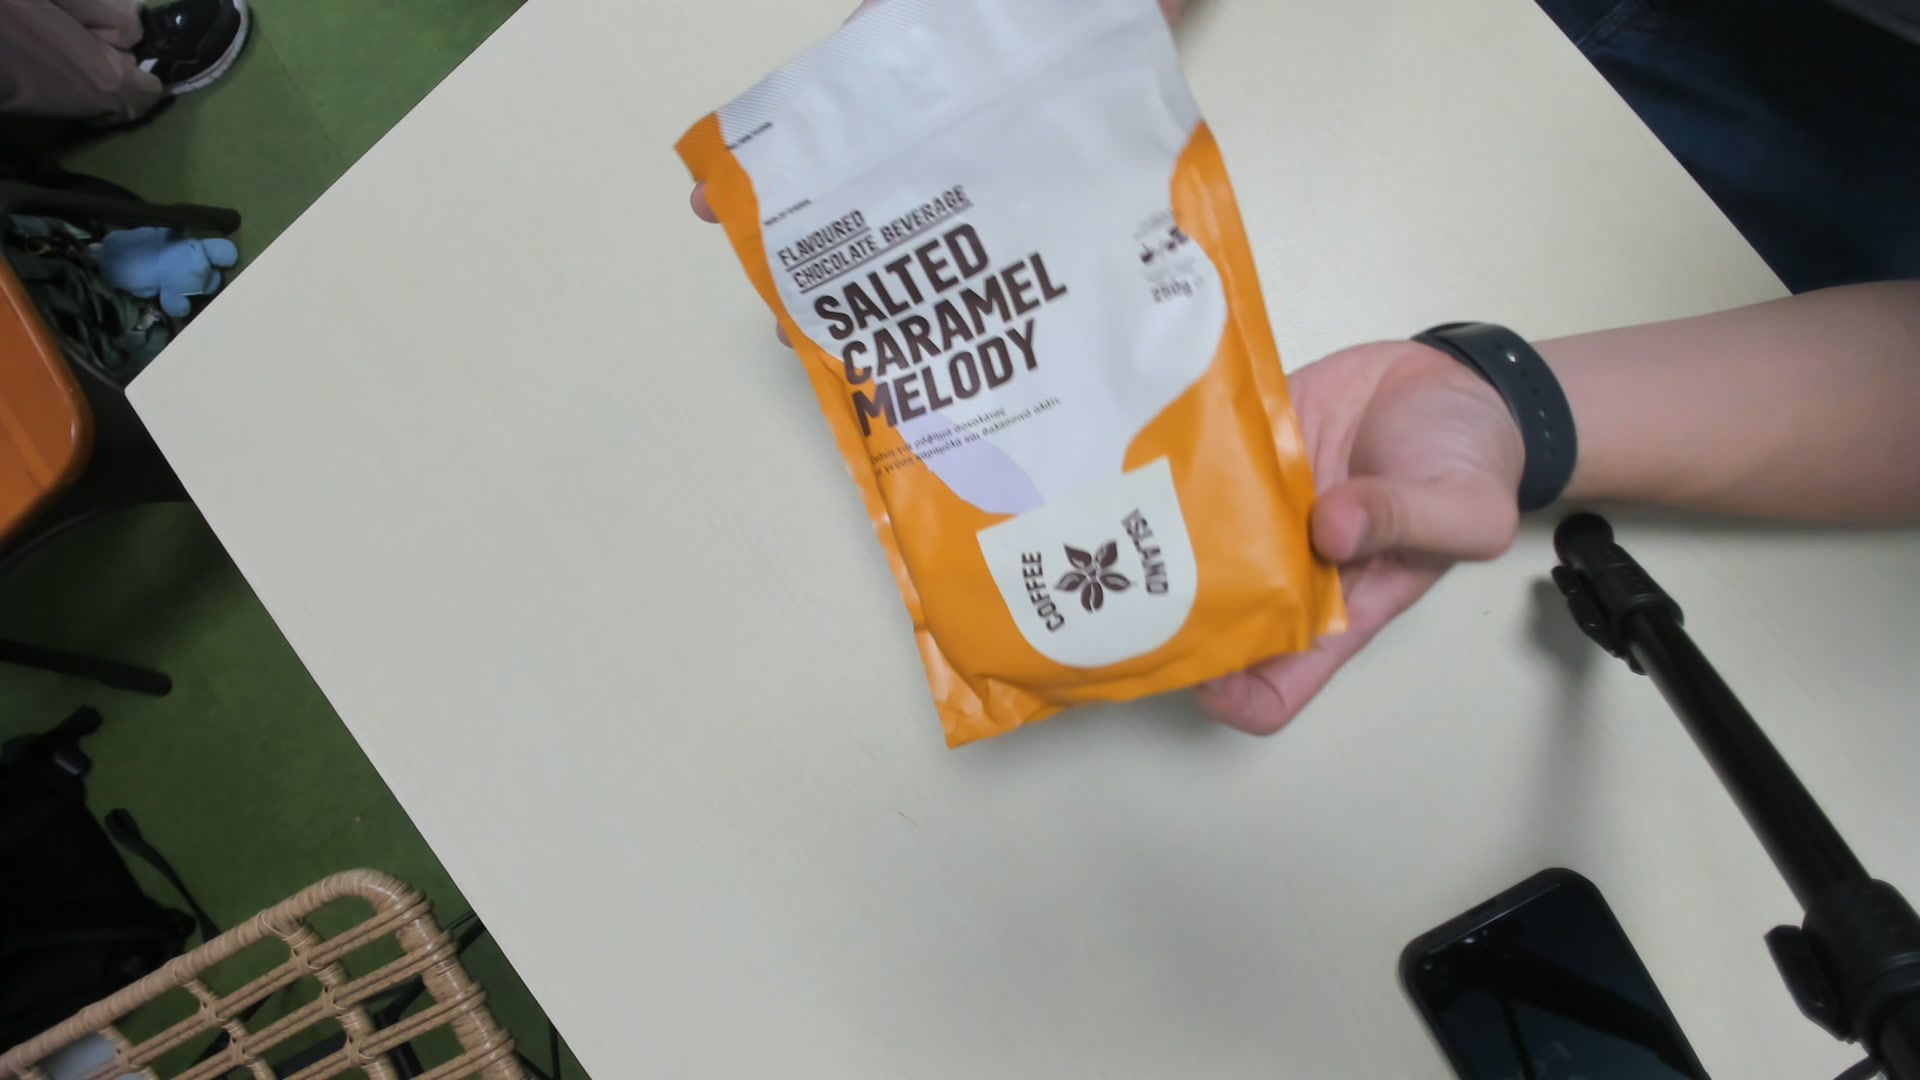Coffee_200-299g_NonHalal_NonHealthy: (688, 1, 1346, 737)
